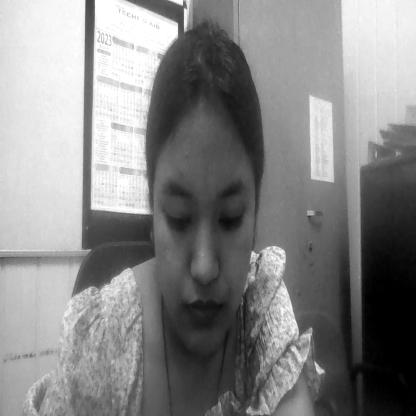Normal: (152, 35, 247, 347)
